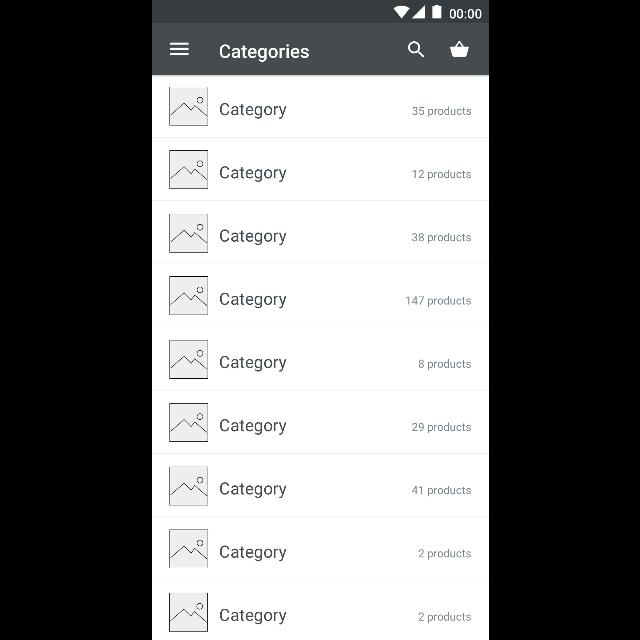icon: (449, 41, 468, 57), (169, 42, 189, 56), (408, 42, 424, 58)
image: (168, 150, 208, 190), (168, 276, 208, 316), (168, 466, 208, 506), (168, 592, 208, 632), (168, 86, 208, 125), (168, 339, 208, 378), (168, 403, 208, 442), (168, 214, 208, 252), (168, 530, 208, 568)
text: (219, 44, 309, 62), (220, 103, 286, 119), (220, 166, 286, 182), (220, 229, 286, 245), (220, 292, 286, 308), (220, 356, 286, 372), (220, 419, 286, 435), (220, 482, 286, 498), (220, 545, 286, 561), (220, 609, 286, 625), (412, 106, 472, 118), (411, 232, 471, 244), (405, 296, 471, 306), (412, 422, 471, 433), (418, 548, 472, 560), (412, 170, 472, 180), (411, 486, 471, 496), (418, 612, 472, 622), (419, 360, 471, 370)
uppertaskbar: (152, 1, 488, 23)
